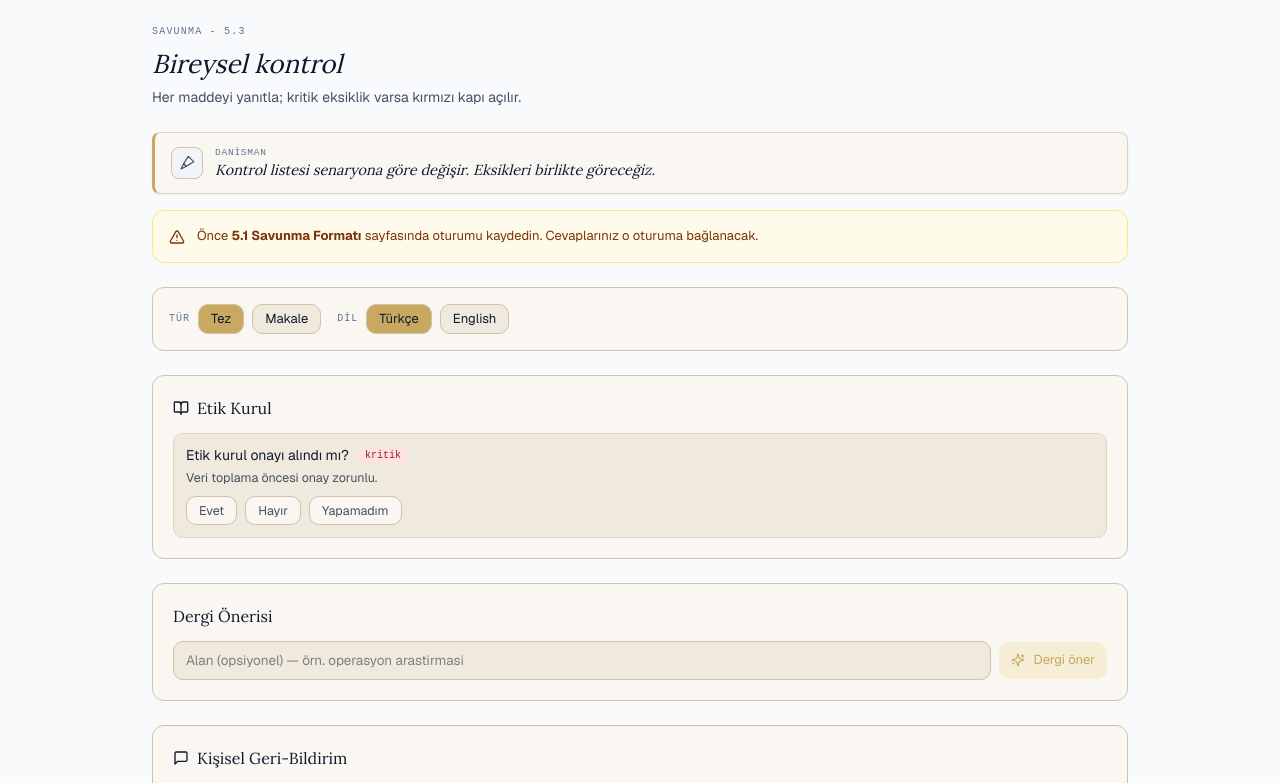
Test: IndividualFeedbackPage › Dergi öner butonu journal-suggest GET cagirir + listeyi render eder
Expected: the text "Etik kurul onayı alındı mı?kritik" is shown, [186,446,409,464]
Click the button "Dergi öner" at coordinates (1053, 660), box [1000,642,1107,678]
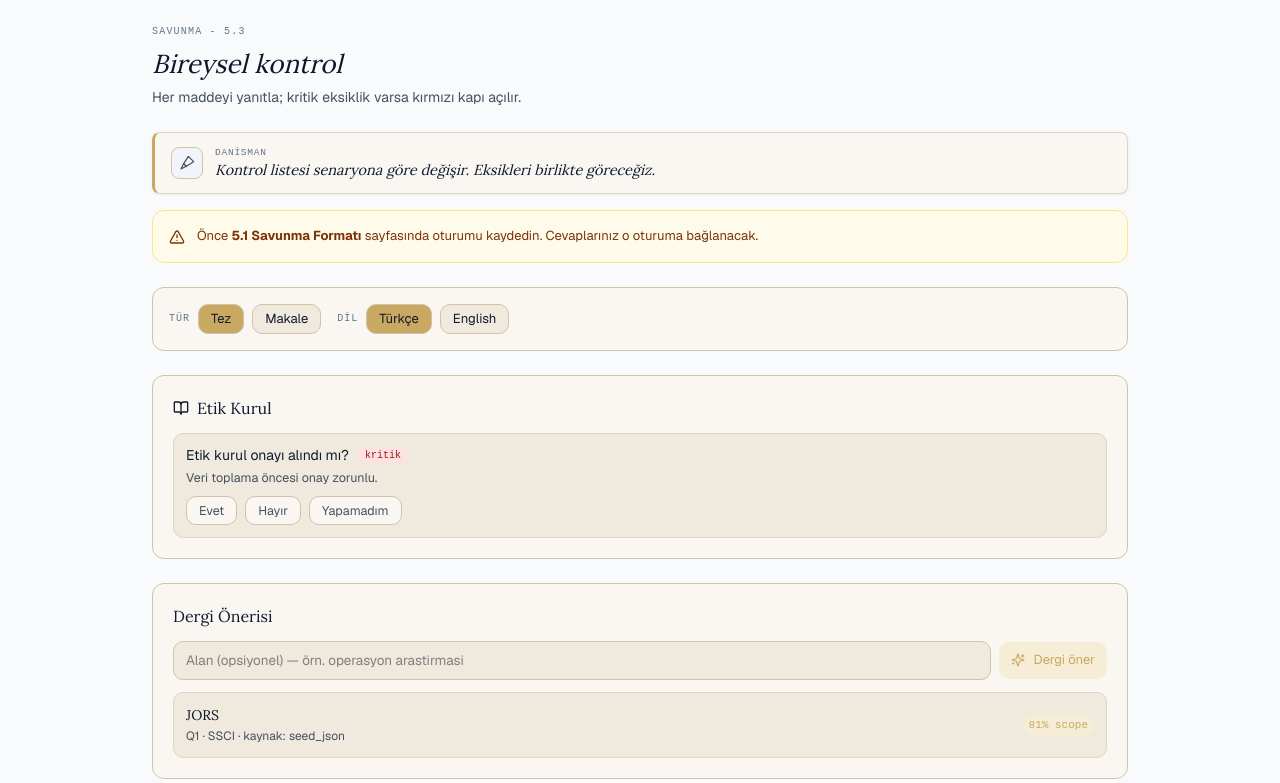
Expected: the text "JORS" is shown, [186,706,219,724]
Expected: the text "81% scope" is shown, [1023,714,1094,736]
